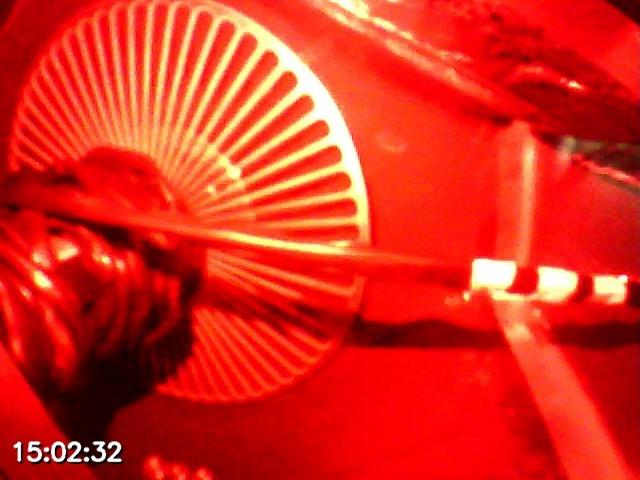white-dots: (470, 256, 629, 307)
